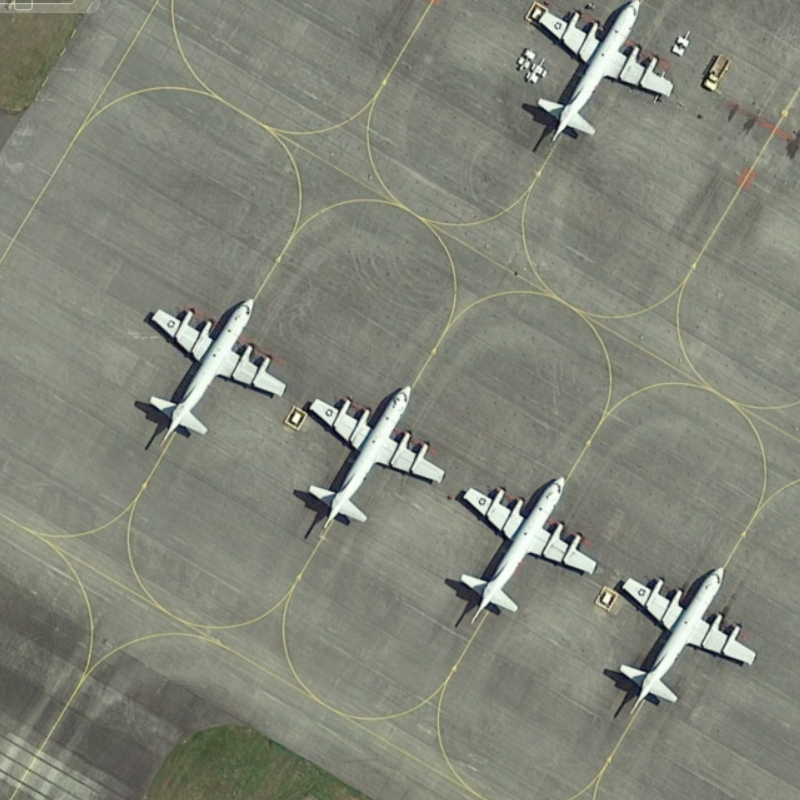A9: (135, 291, 289, 458), (297, 375, 449, 542), (610, 561, 760, 724), (521, 1, 677, 155), (453, 470, 605, 628)
